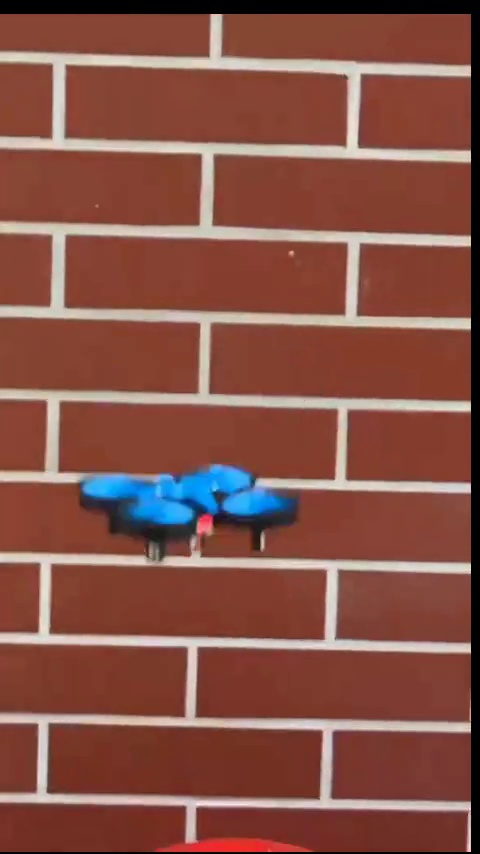drone: (71, 464, 310, 564)
